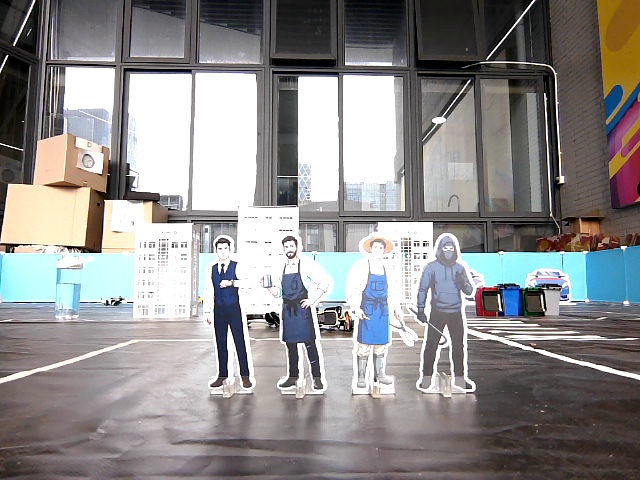community_person: (260, 229, 336, 407), (193, 230, 258, 406), (342, 230, 403, 405)
outsider: (403, 224, 489, 405)
